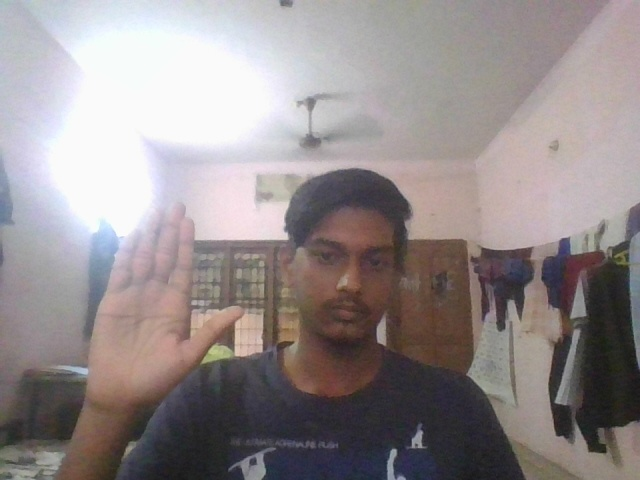hello: (82, 200, 249, 412)
